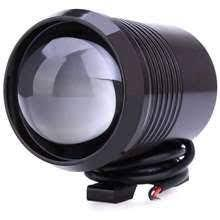Lamp: (1, 0, 219, 210)
